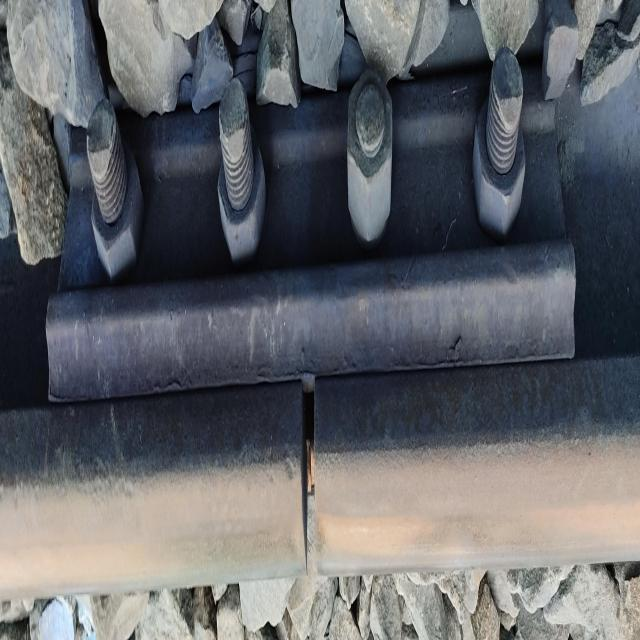Good Joint: (45, 95, 580, 380)
